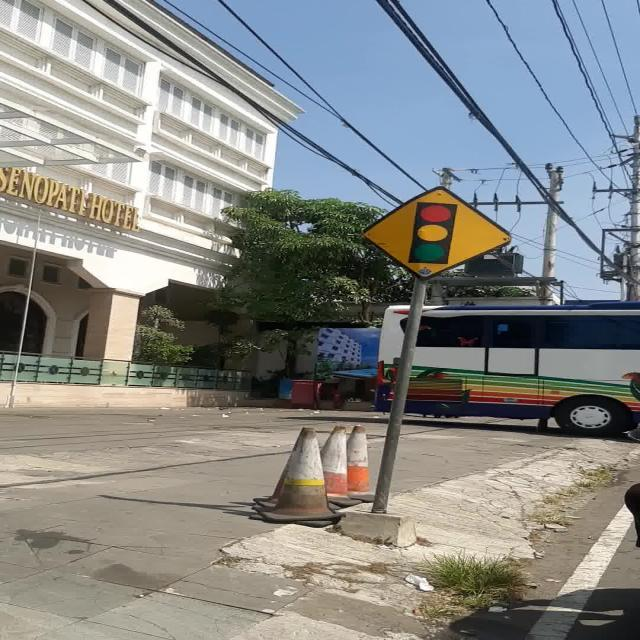Lampu Lalu Lintas: (363, 186, 511, 280)
